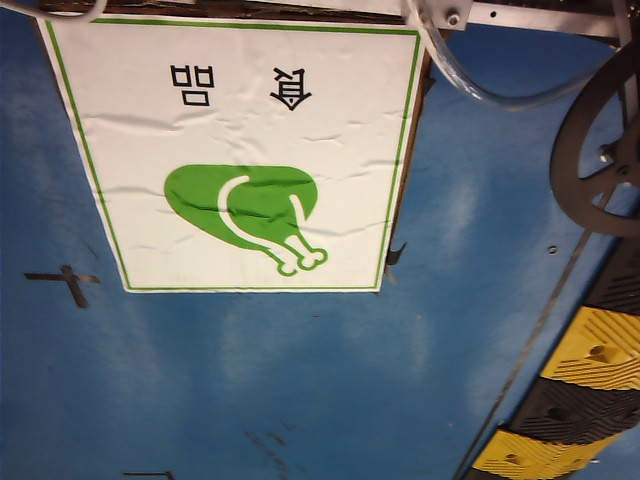Cube_food: (139, 38, 363, 284)
